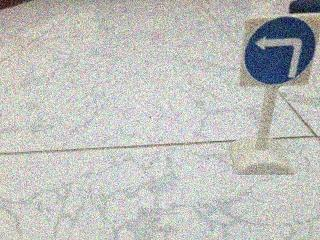left: (240, 13, 320, 86)
